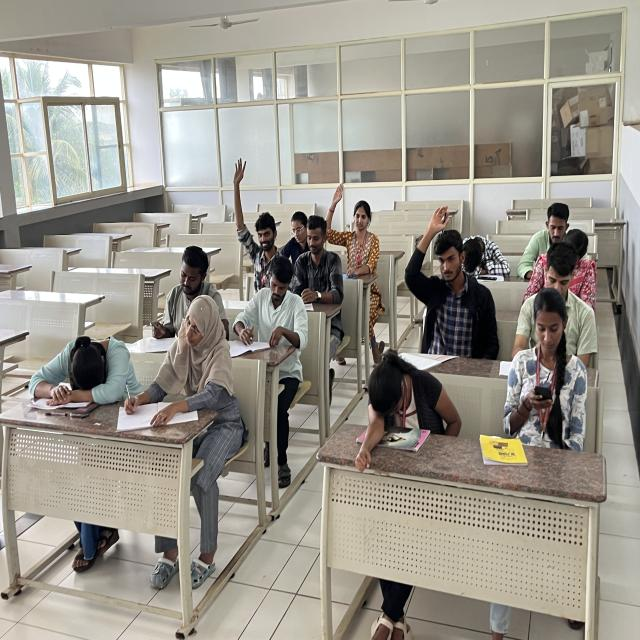Hand Rising: (405, 205, 495, 354), (228, 150, 280, 273), (326, 174, 380, 268)
Sleeping: (12, 319, 150, 463), (348, 347, 460, 456), (464, 222, 518, 282)
Using Phone: (495, 281, 588, 464)
Writing: (118, 285, 242, 488), (140, 243, 230, 355), (234, 251, 306, 379), (290, 215, 347, 316)
